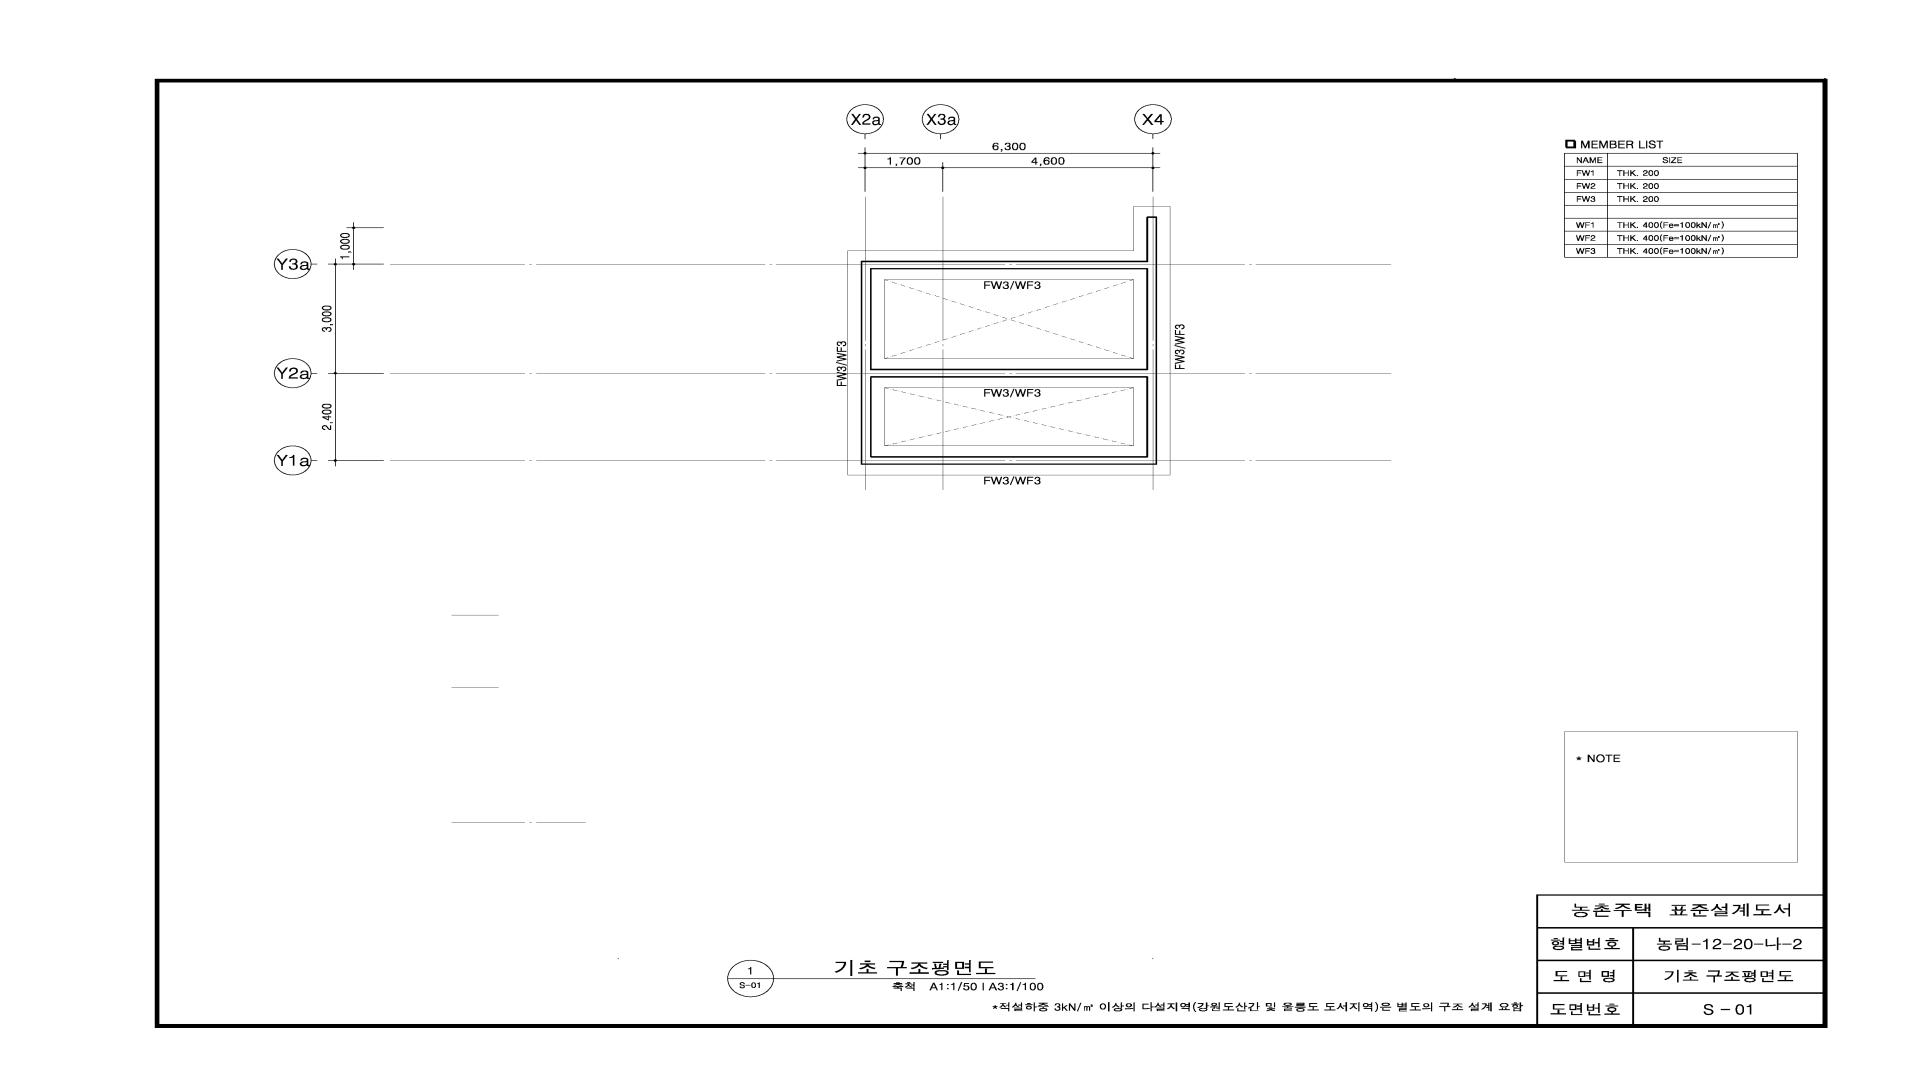wall: (872, 216, 1156, 464), (861, 261, 872, 464)
